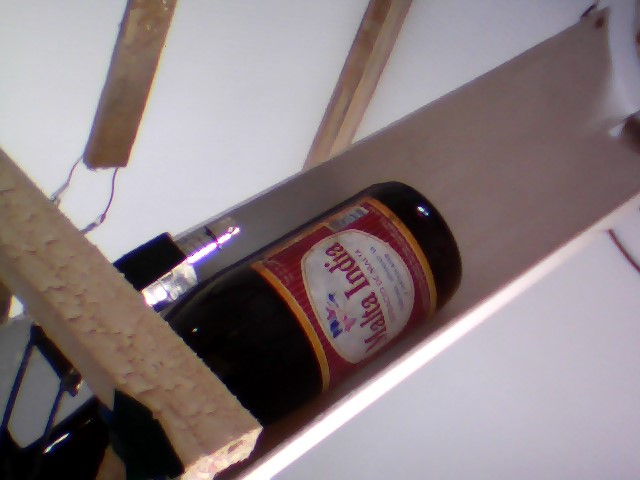vidrio: (172, 174, 469, 427)
